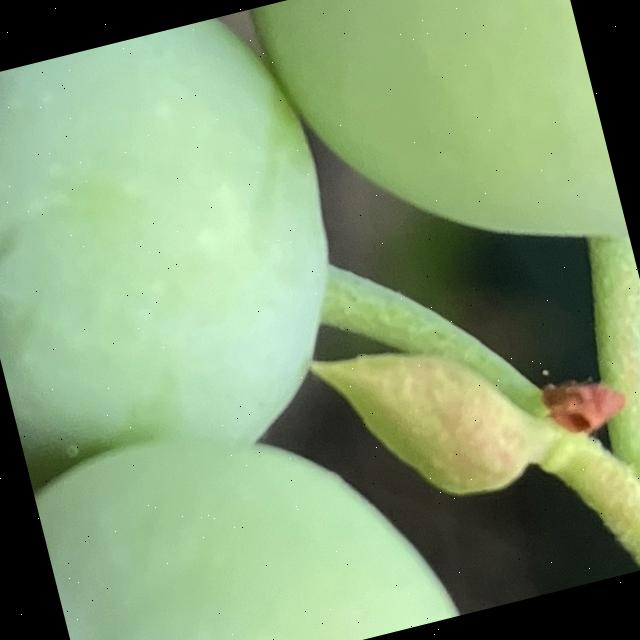Blueberries: (0, 0, 380, 487), (247, 0, 631, 323), (26, 369, 472, 640)
